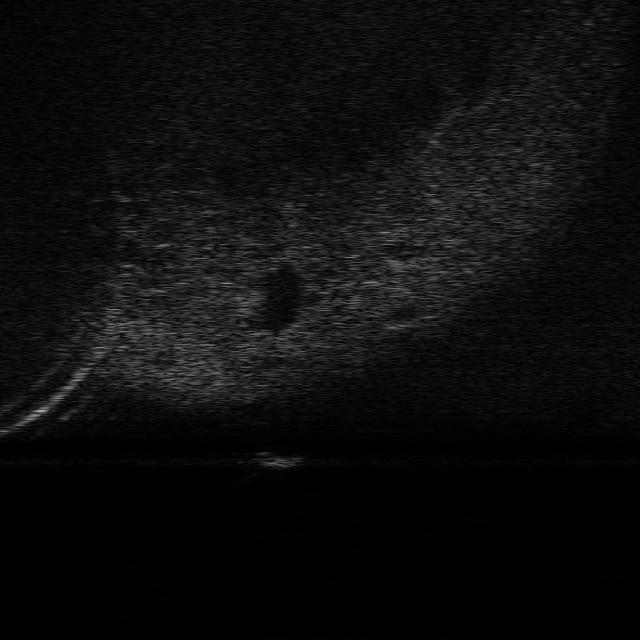cube: (250, 447, 304, 472)
